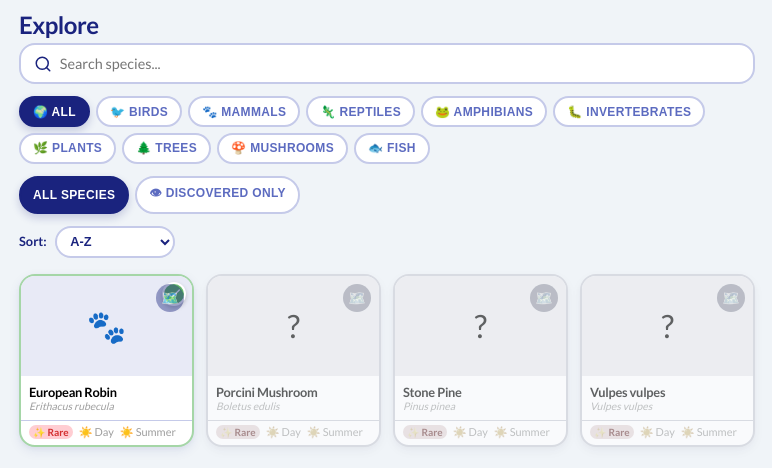
Test case: ChecklistPage › filter by TREES category shows only trees
The image size is (772, 468).
Click the button "🌲 Trees" at point(167, 148), box [122,133,211,164]
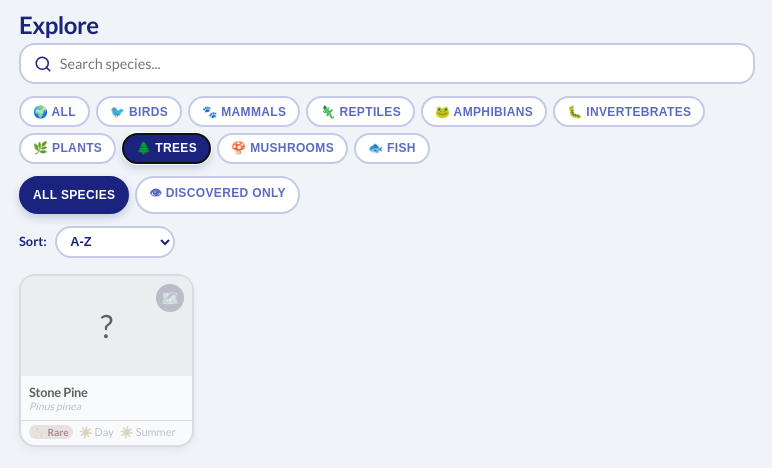
Expected: the heading "Stone Pine" is shown, [29,384,88,400]
Expected: the button "European Robin" is gone
Expected: the button "Porcini Mushroom" is gone
